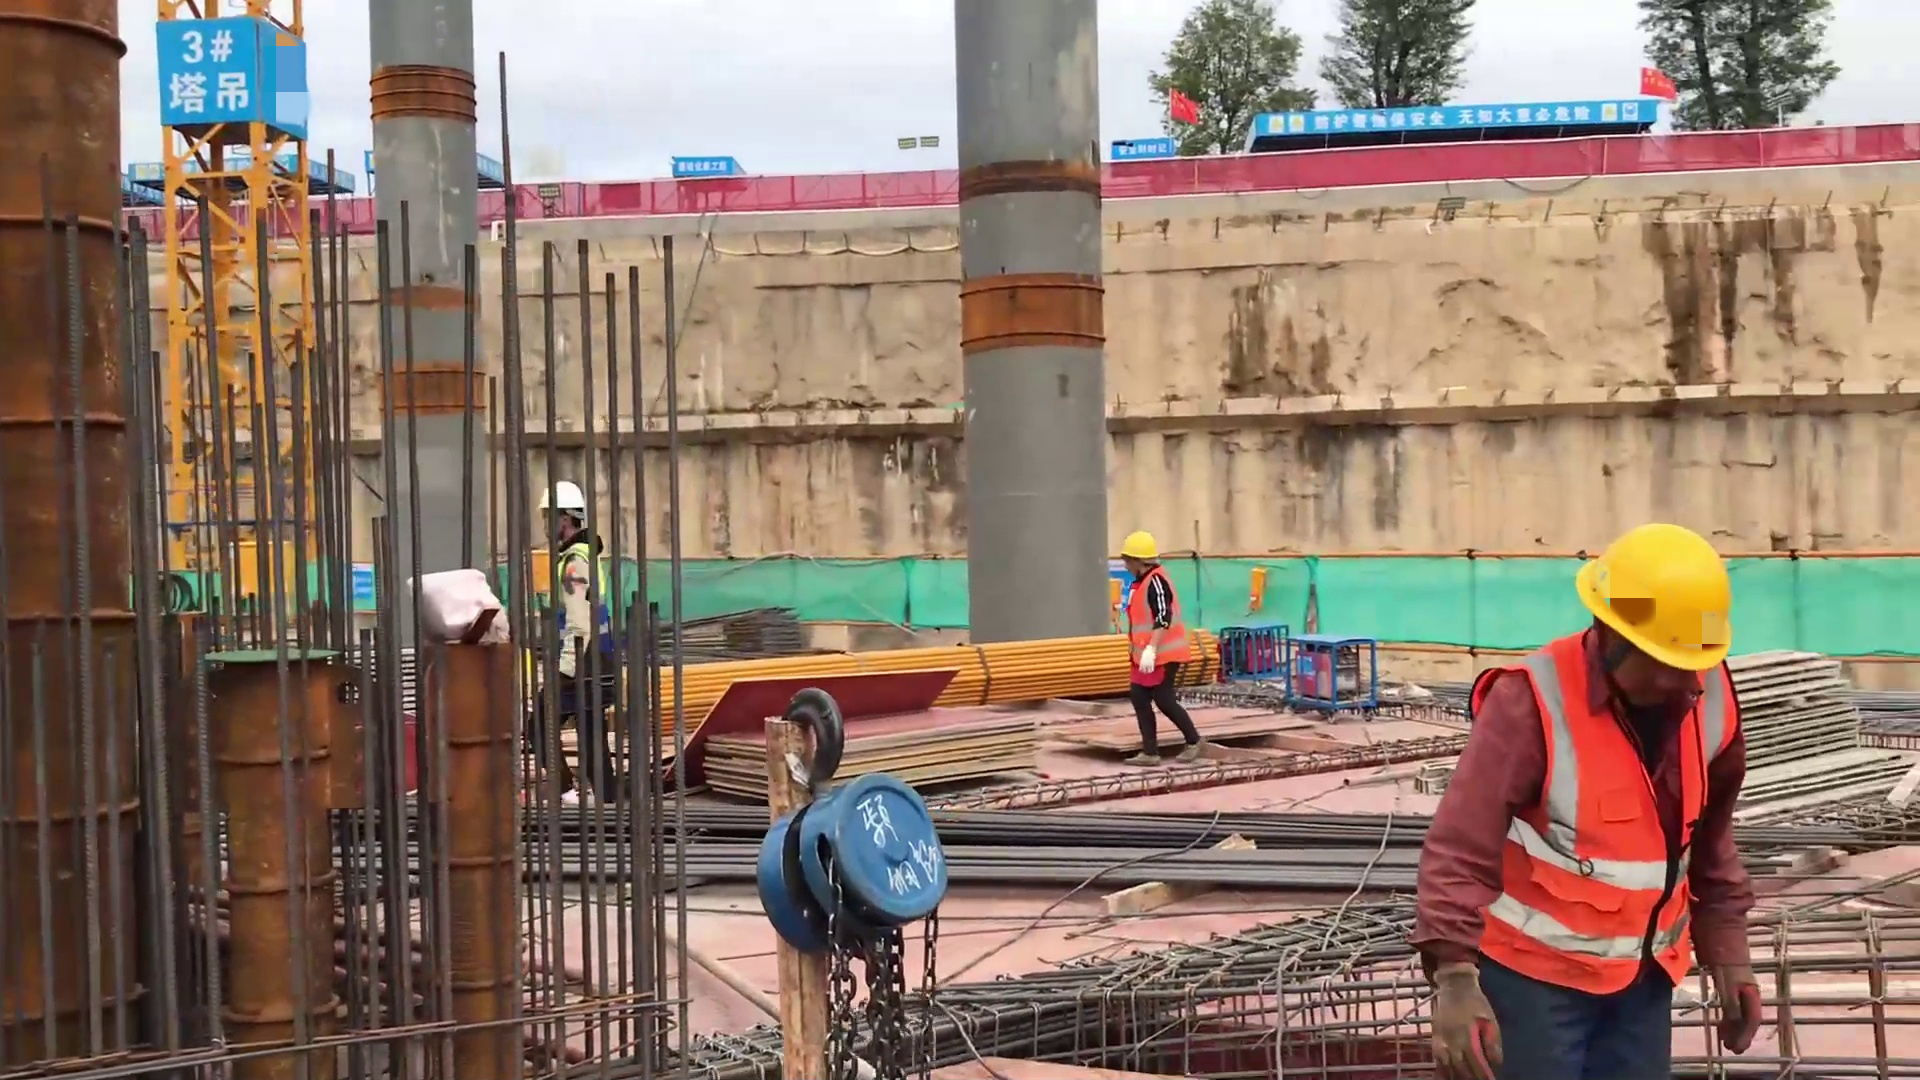helmet: (1574, 521, 1732, 670), (1119, 531, 1159, 559)
person: (1412, 520, 1765, 1080), (521, 479, 619, 808), (1120, 530, 1207, 767)
vest: (1471, 642, 1736, 987), (1127, 566, 1191, 690), (559, 544, 613, 654)
